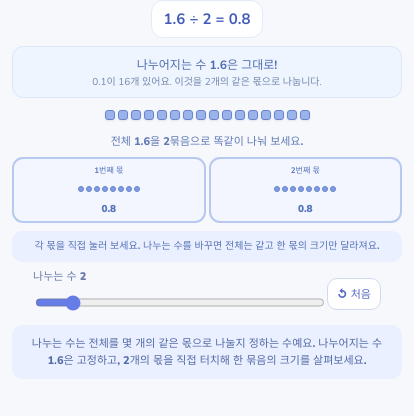
Test: 소수 나눗셈의 용어와 직접 조작 › 나누는 수를 3으로 움직이면 1.6은 보존되면서 몫만 약 0.533으로 바뀐다
The width and height of the screenshot is (414, 416).
Set the slider labelled "나누는 수" to "3": (104, 303) left=35, top=290, right=325, bottom=315
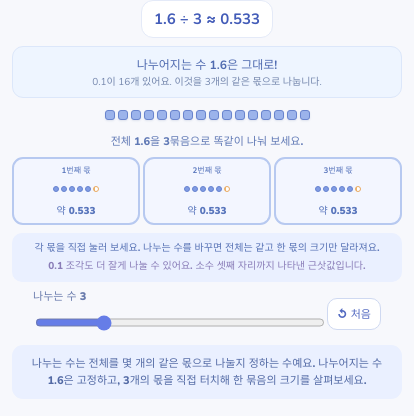
Check: the text "1.6 ÷ 3 ≈ 0.533" is shown, box left=154, top=9, right=260, bottom=29
Check: the number of buttons with class "decimal-share" is 3, box left=12, top=157, right=140, bottom=225; left=143, top=157, right=271, bottom=225; left=274, top=157, right=402, bottom=225
Check: the text "0.1 조각도 더 잘게 나눌 수 있어요. 소수 셋째 자리까지 나타낸 근삿값입니다." is shown, box left=22, top=259, right=392, bottom=274
